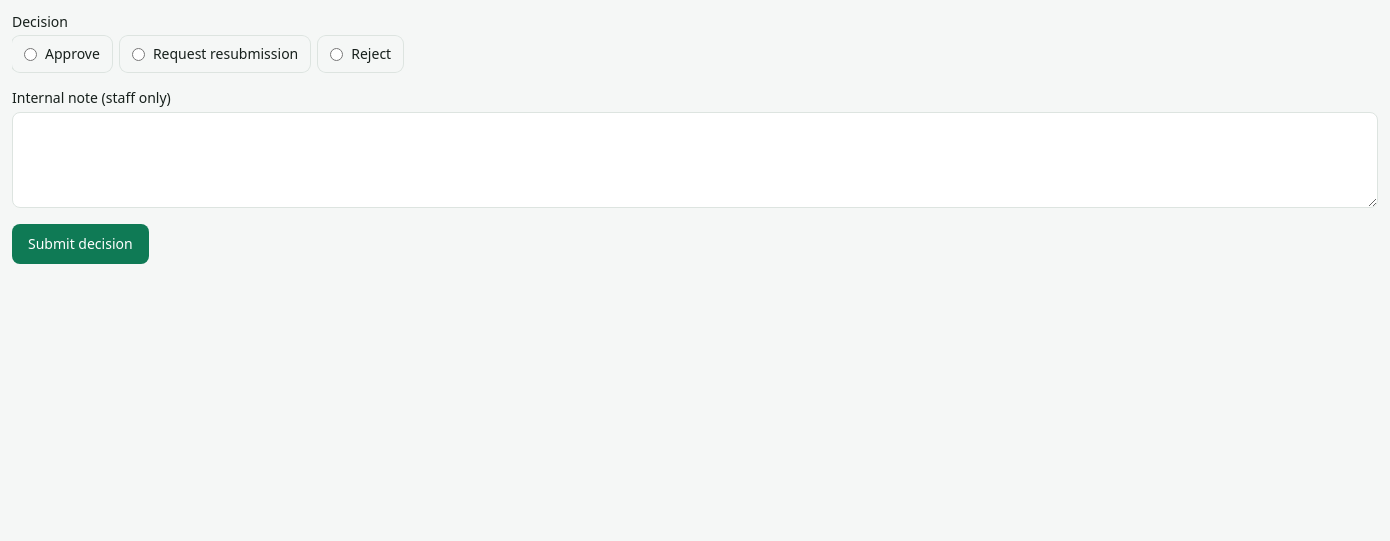
Scenario: review decisions › does not submit an incomplete rejection, then submits normalized fields
This screenshot has width=1390, height=541.
Later steps or results of the test are not shown.
What coordinates should you click on to do the following:
click the radio button labelled "Reject"
I would click on:
 (337, 54)
Its box is [330,48,343,60].
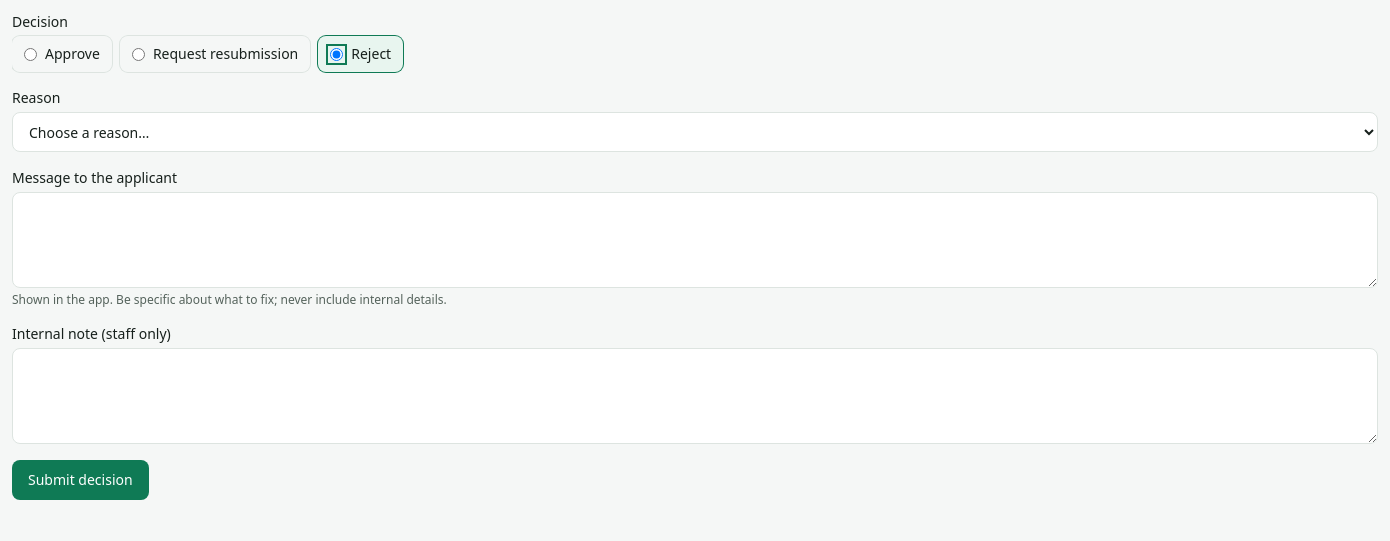
What coordinates should you click on to do the following:
click the button "Submit decision"
I would click on:
 (80, 480)
Its box is [12,460,149,500].
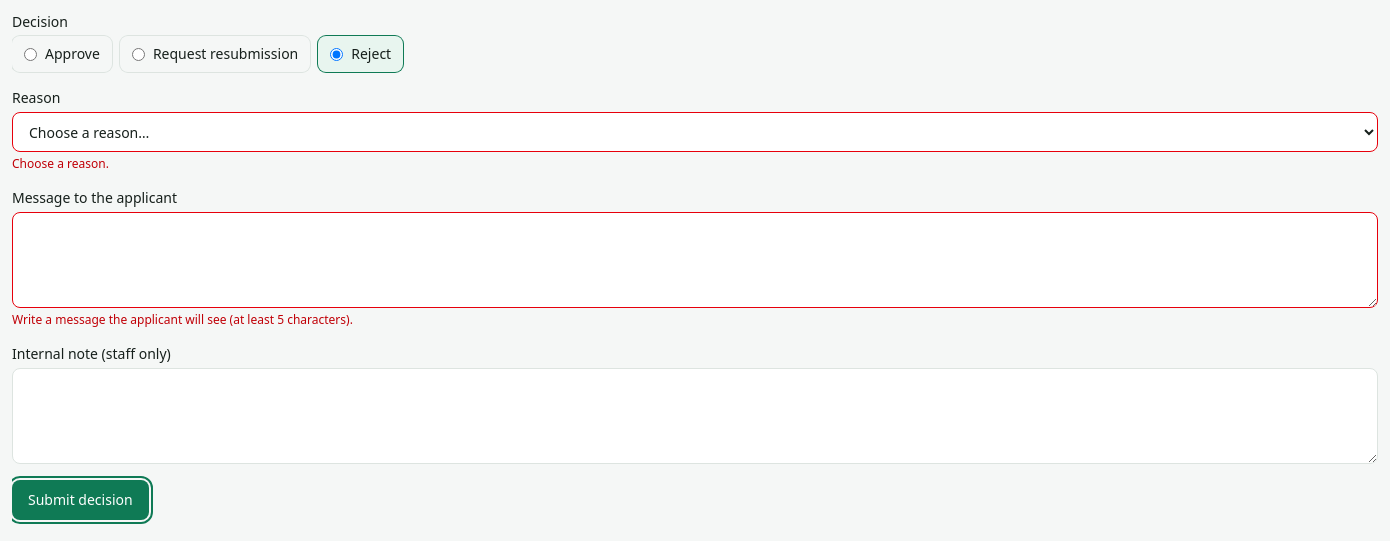
Check: the text "Choose a reason." is shown, box [12,155,109,172]
